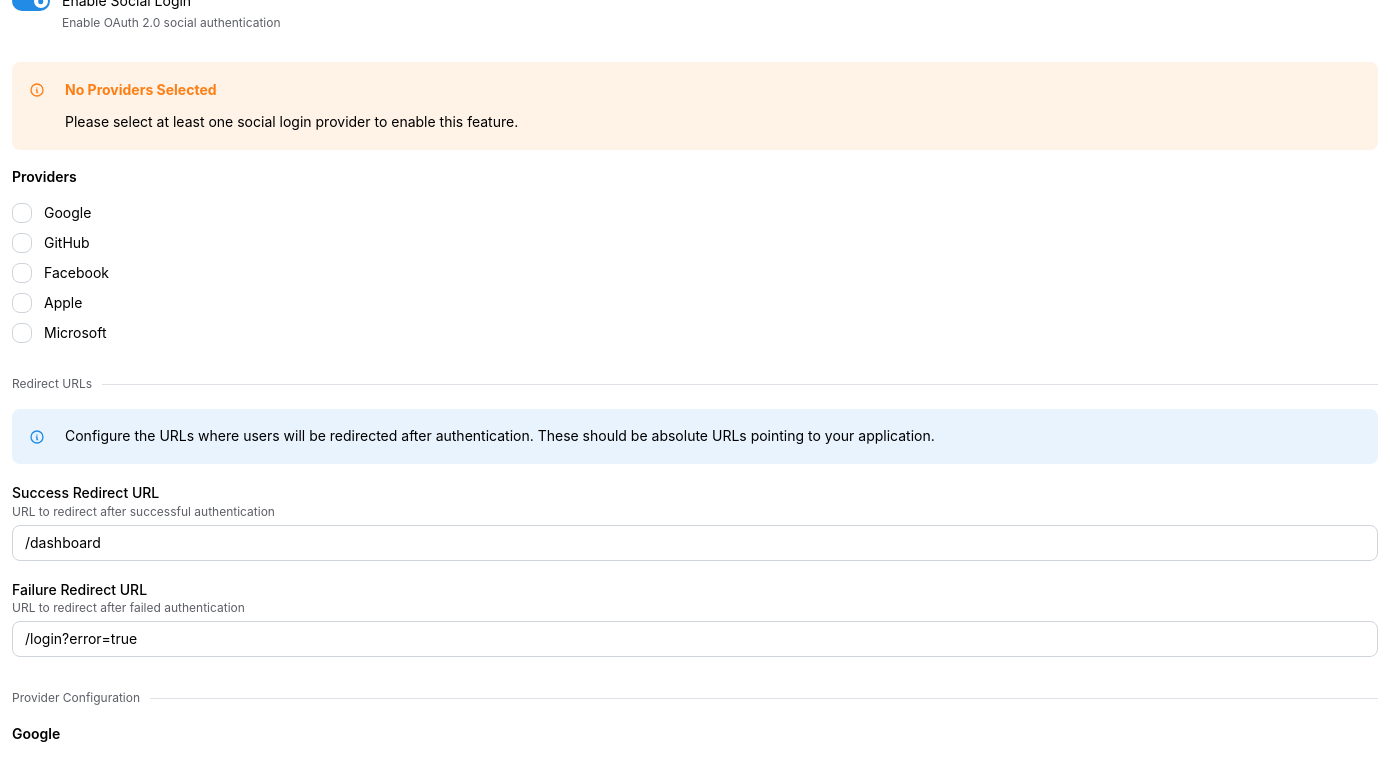
Test case: SocialLoginSettingsForm › Provider Configuration › shows provider configuration fields when provider is enabled
Click the checkbox with test id "provider-checkbox-google": click(22, 213) [12, 203, 32, 223]
(page scrolled)
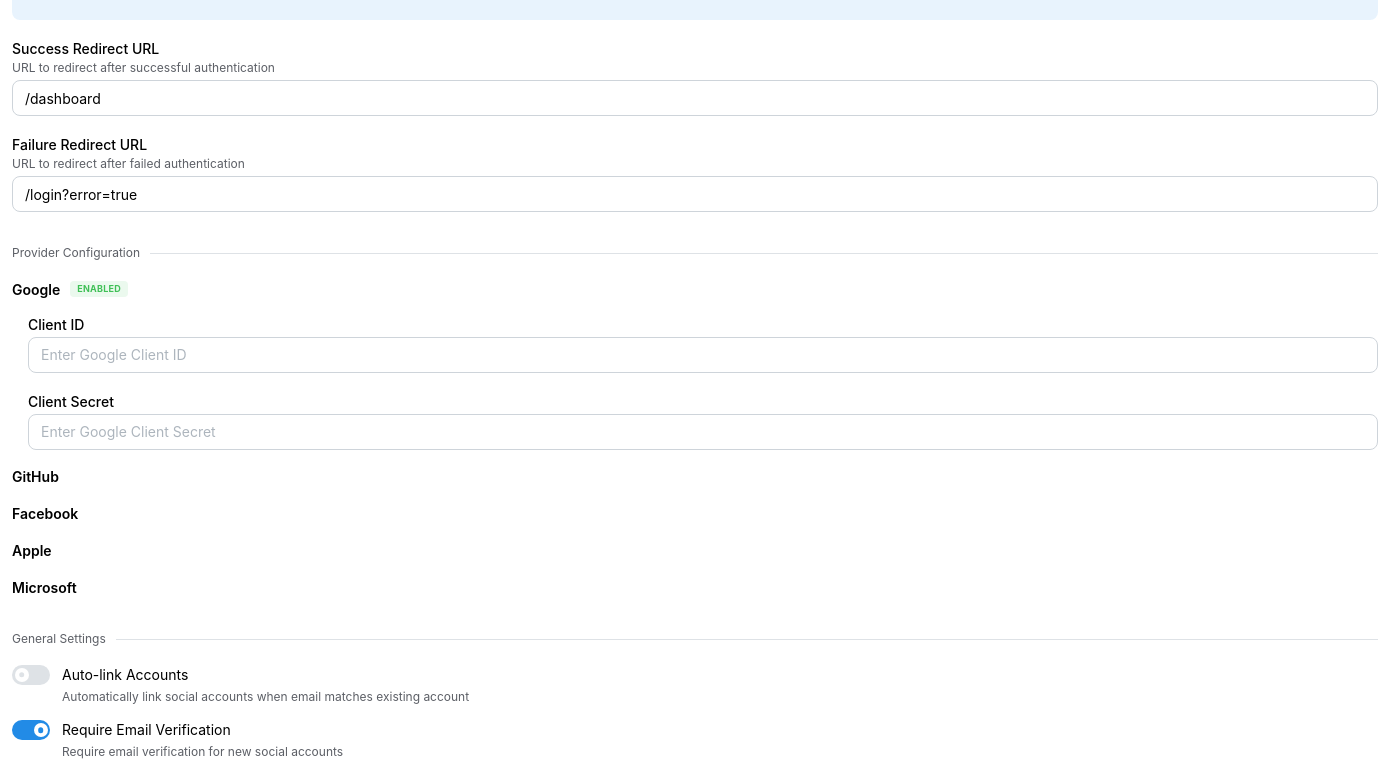
Expected: the field with test id "provider-google-client-id" is shown, [28, 337, 1378, 373]
Expected: the password field with test id "provider-google-client-secret" is shown, [28, 414, 1378, 450]
